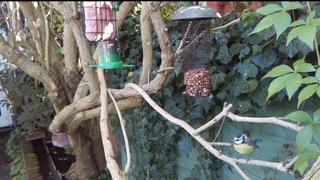blue tit: (231, 134, 263, 164)
